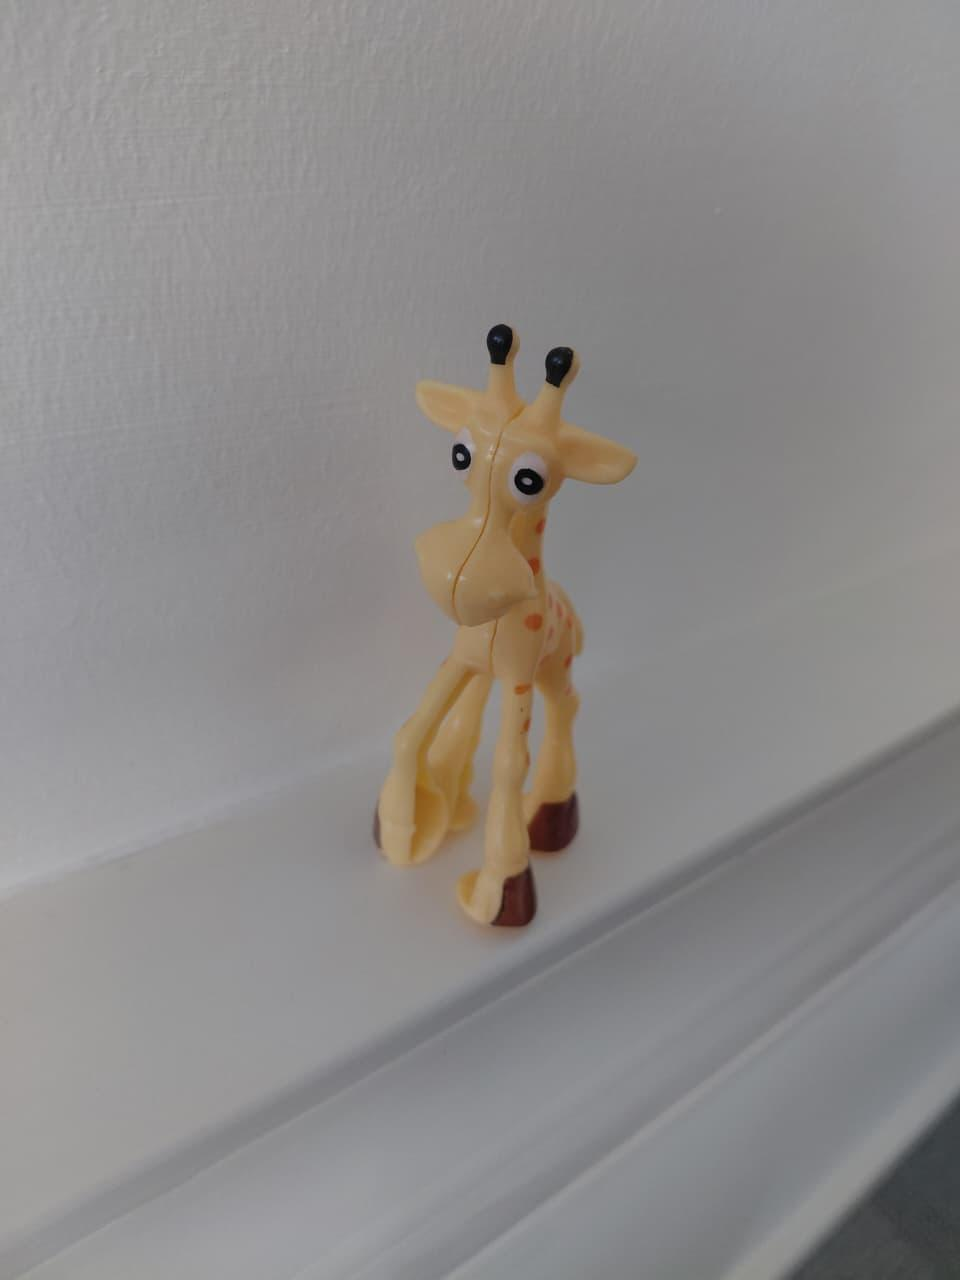giraffe: (335, 260, 706, 935)
